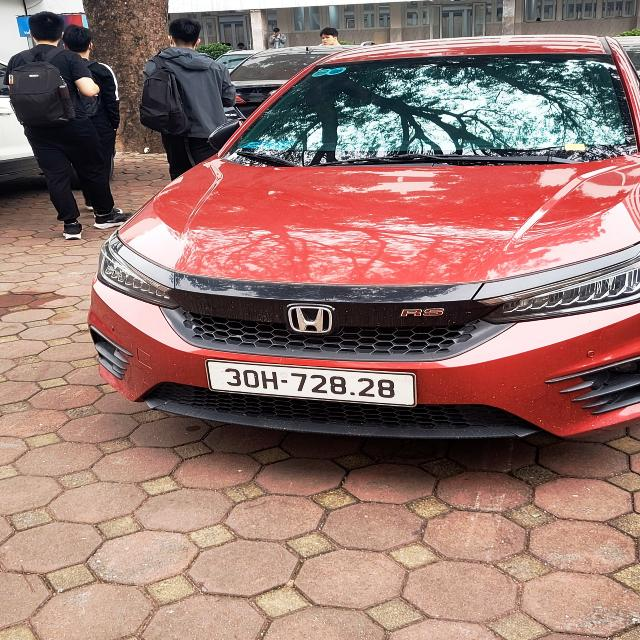license_plate: (207, 362, 418, 407)
